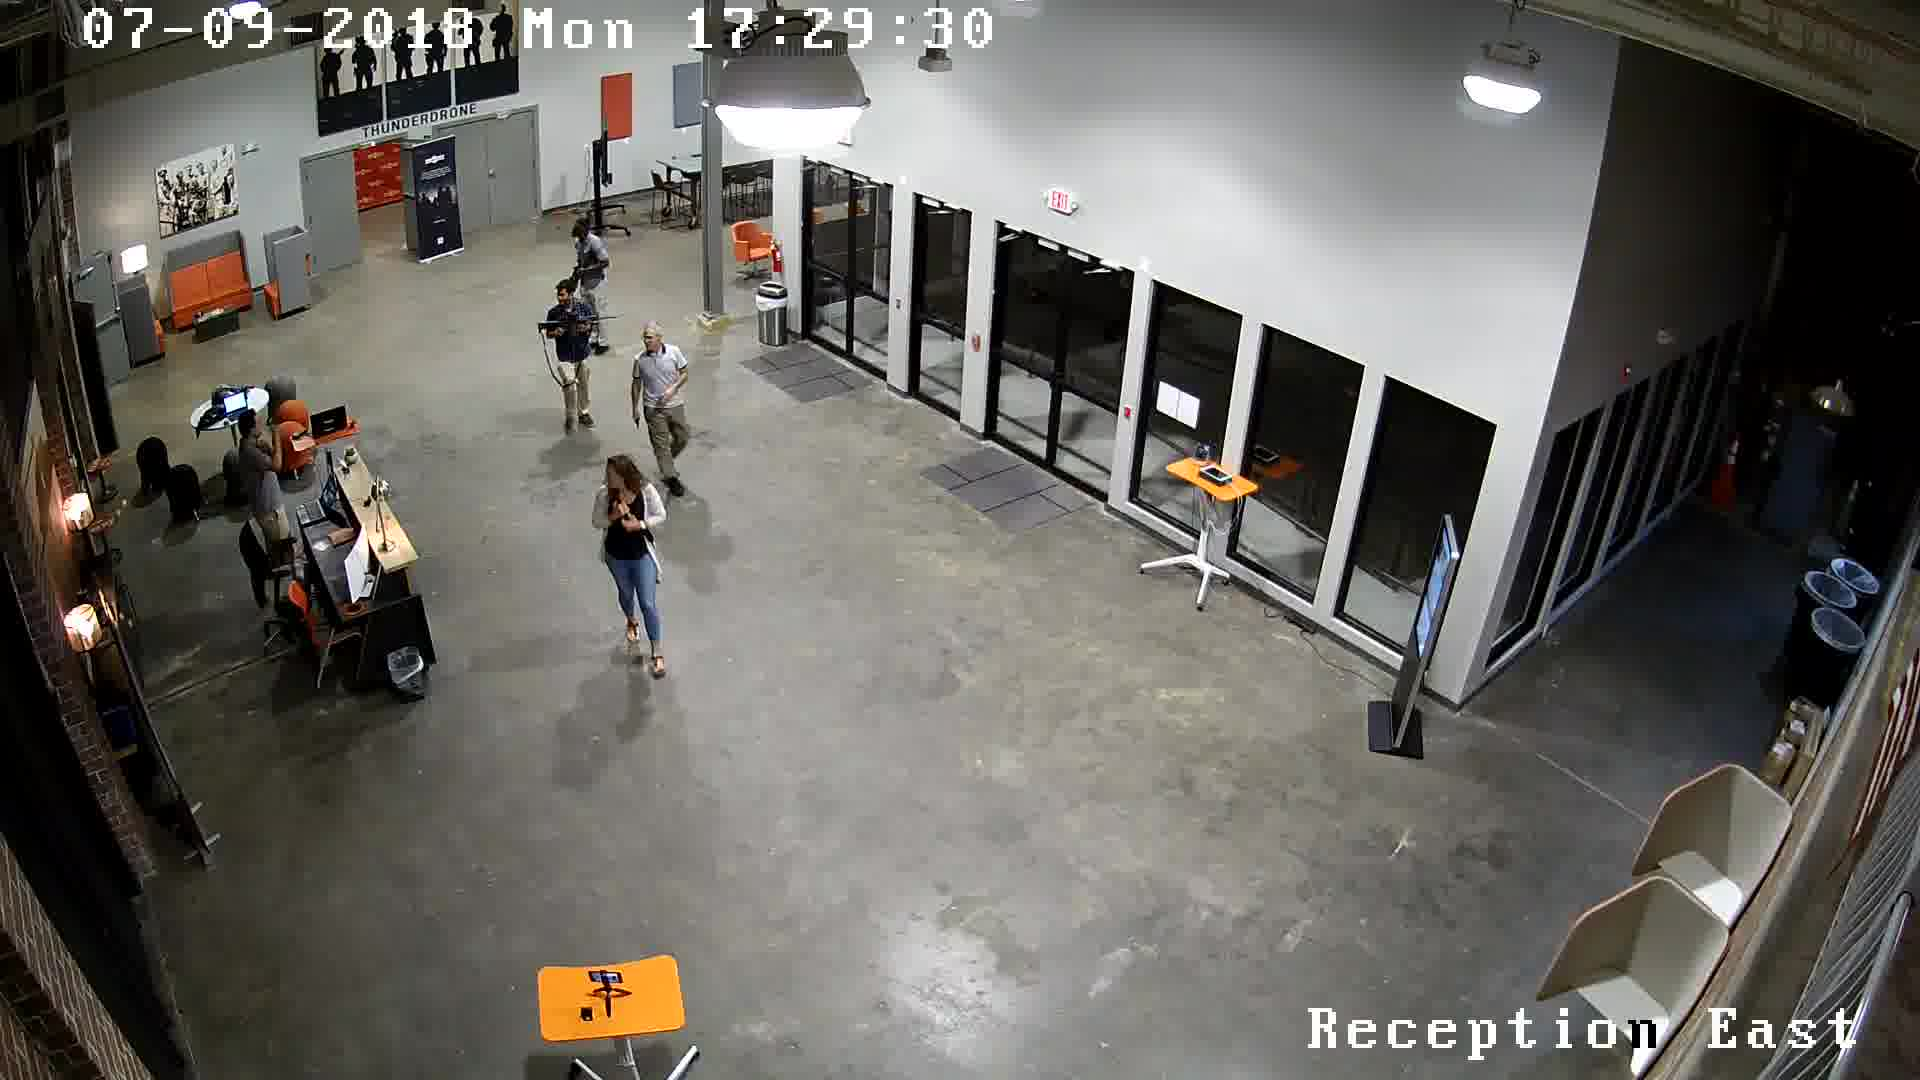pistol: (621, 406, 649, 433)
